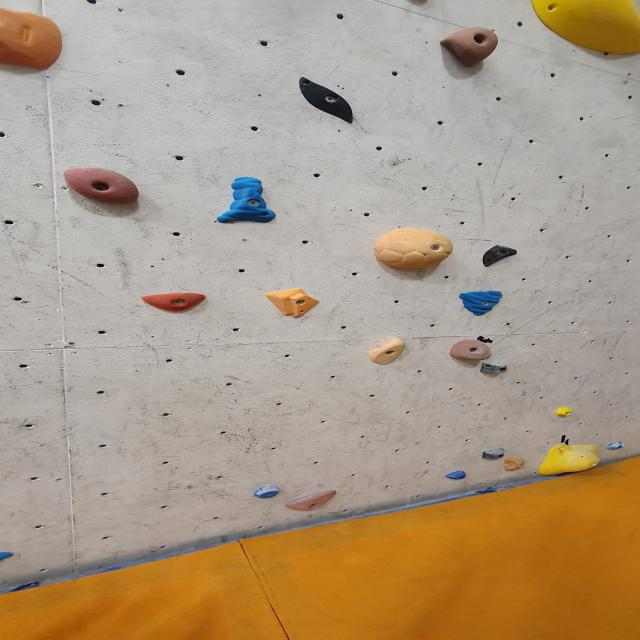Crimp: (141, 292, 209, 312), (283, 491, 339, 512), (457, 292, 503, 316), (254, 486, 282, 500), (446, 470, 469, 479), (0, 553, 15, 566), (606, 444, 624, 452)
Jug: (62, 168, 143, 205), (436, 29, 501, 71), (448, 340, 494, 363)
Pinch: (215, 176, 276, 225), (368, 339, 408, 366), (477, 360, 510, 374), (480, 447, 510, 460)
Sloper: (532, 0, 640, 59), (0, 6, 66, 71), (290, 72, 356, 129), (373, 228, 455, 272), (536, 444, 603, 477), (264, 289, 322, 320), (476, 245, 527, 265), (502, 457, 527, 472)
